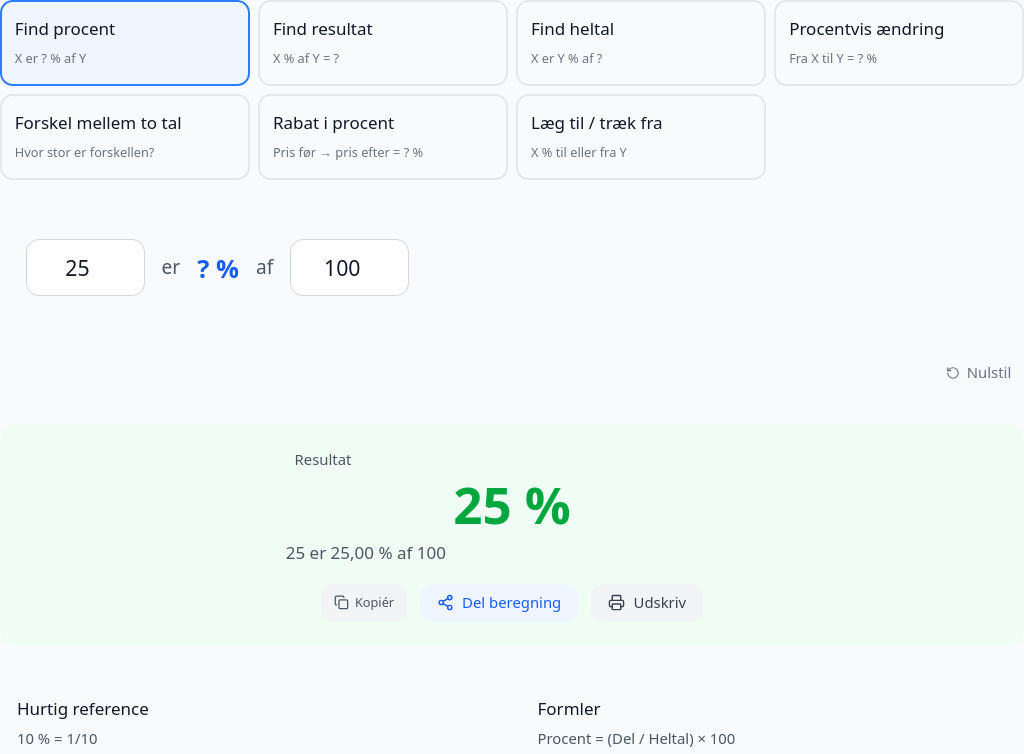
Test case: ProcentBeregner › hovedtallet i forskel-kortet er forskellen, ikke ændringen
The image size is (1024, 754).
Click the radio button labelled "Forskel mellem to tal Hvor stor er forskellen?" at (125, 137), box [0, 94, 250, 180]
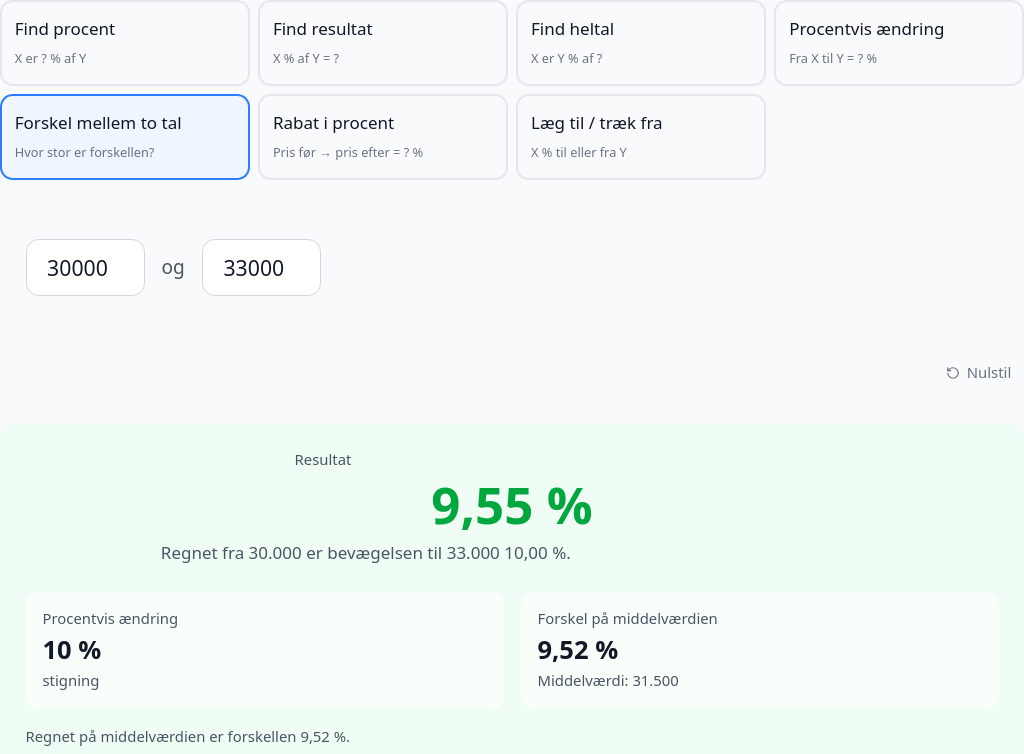
Expected: the text "resultat" is shown, [273, 17, 373, 40]
Result: the text "9,52 %" is shown at [538, 632, 618, 666]
Result: the text "10 %" is shown at [42, 632, 101, 666]
